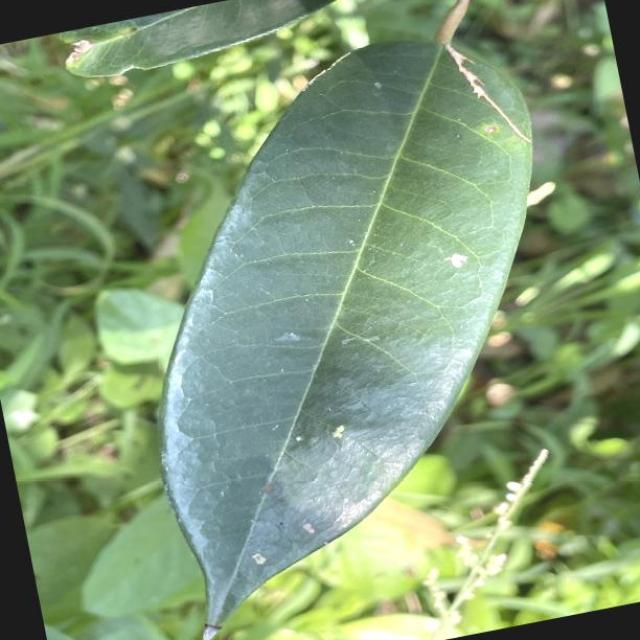No Disease: (79, 4, 628, 640)
